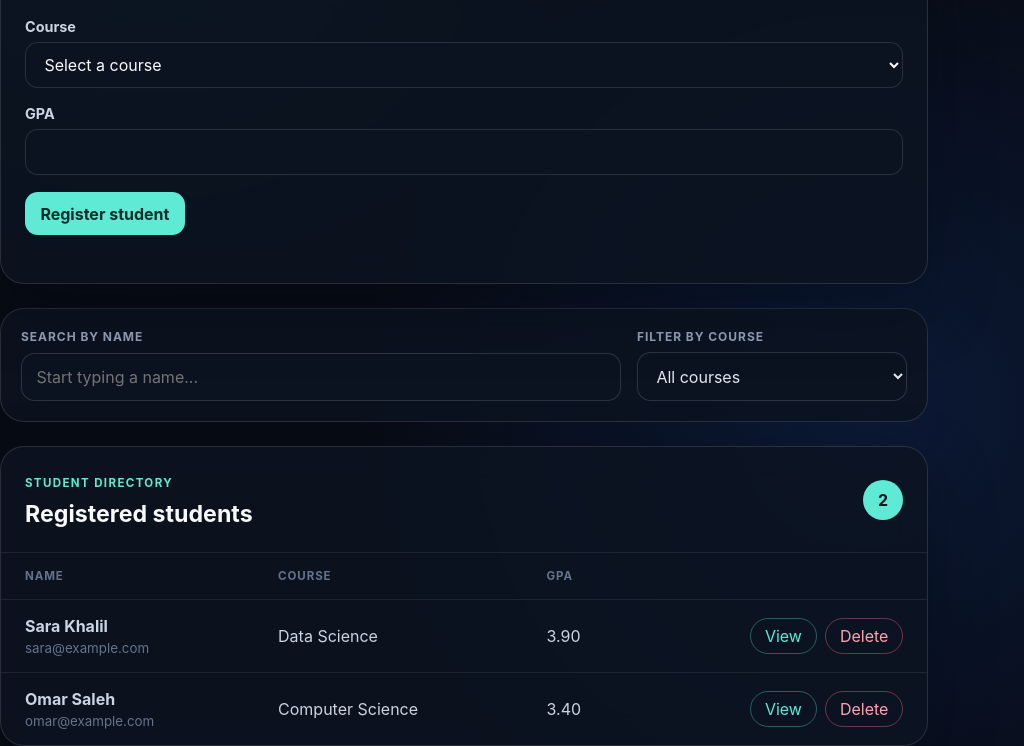
StudentDashboard › searches by name and filters students by course
(page scrolled)
Type "sara" into the search field labelled "Search by name" at (321, 377), box [21, 353, 621, 402]
(page scrolled)
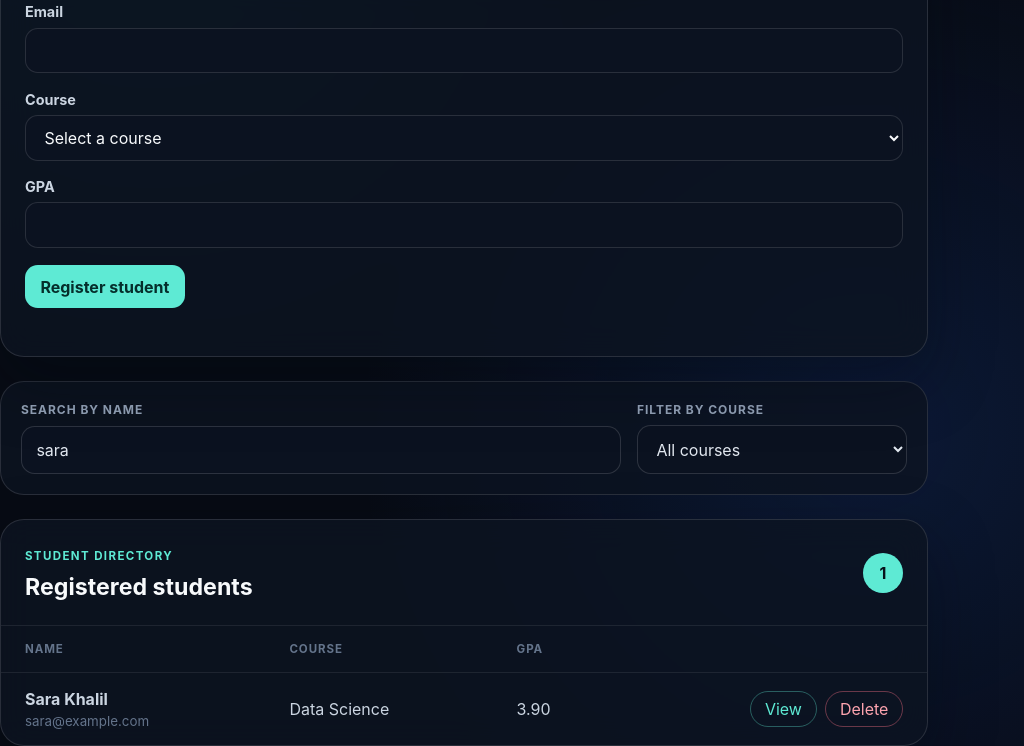
Check: the text "Sara Khalil" is shown, box [25, 689, 108, 709]
Check: the text "Omar Saleh" is gone
Clear the search field labelled "Search by name" at (321, 450), box [21, 426, 621, 474]
(page scrolled)
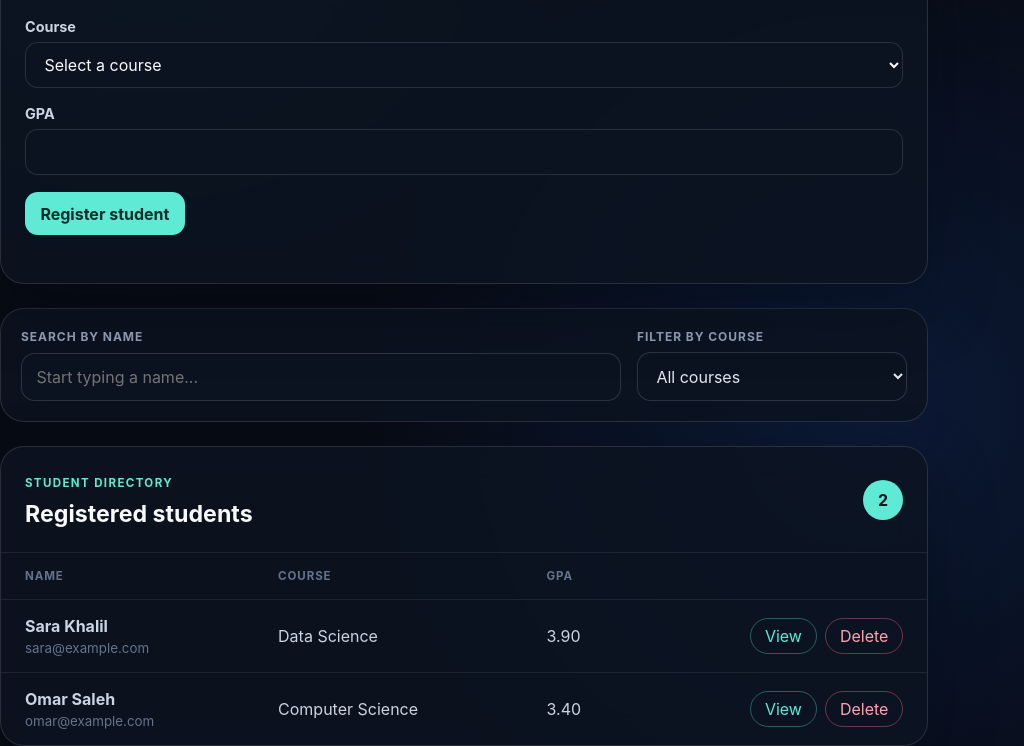
Select "Computer Science" in the dropdown labelled "Filter by course" at (772, 377), box [637, 352, 907, 402]
(page scrolled)
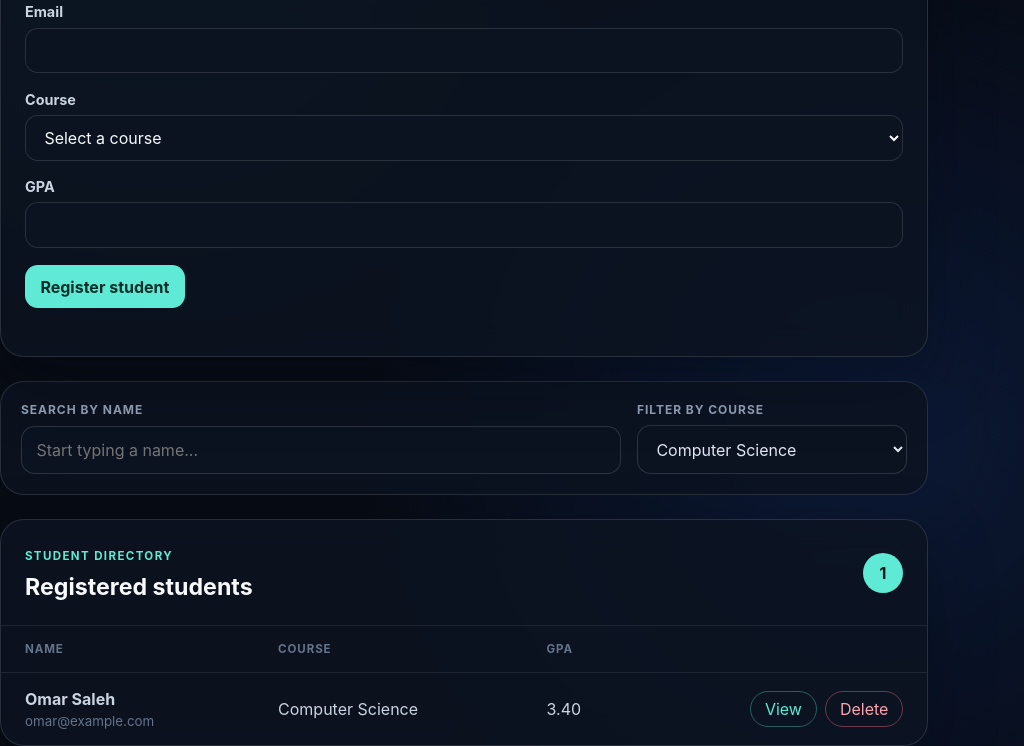
Check: the text "Omar Saleh" is shown, box [25, 689, 115, 709]
Check: the text "Sara Khalil" is gone
Check: the text named "Visible student count" reads "1", box [880, 563, 886, 583]
